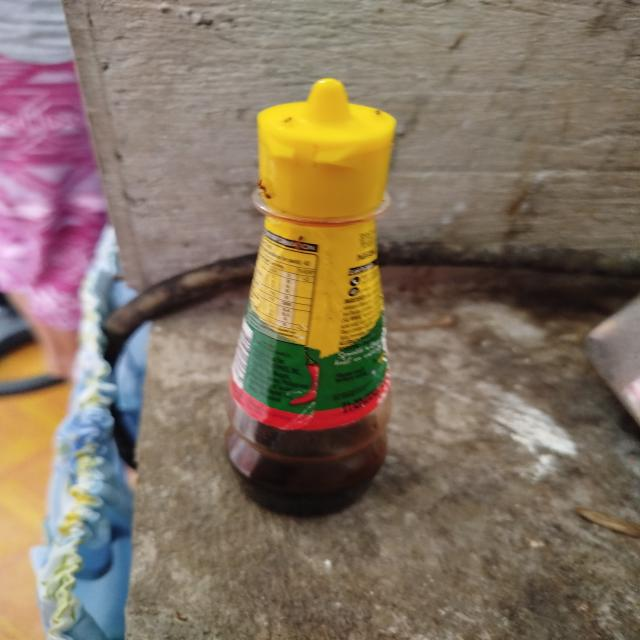plastic: (192, 63, 455, 549)
